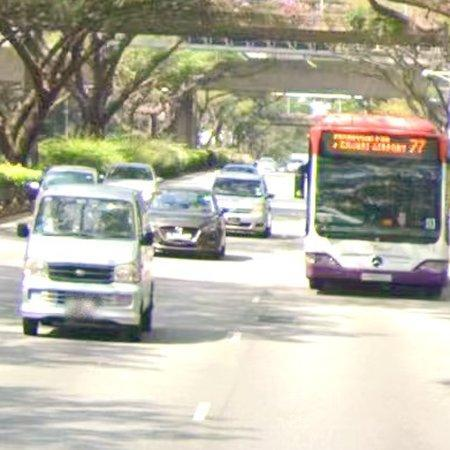buses: (305, 115, 450, 292)
